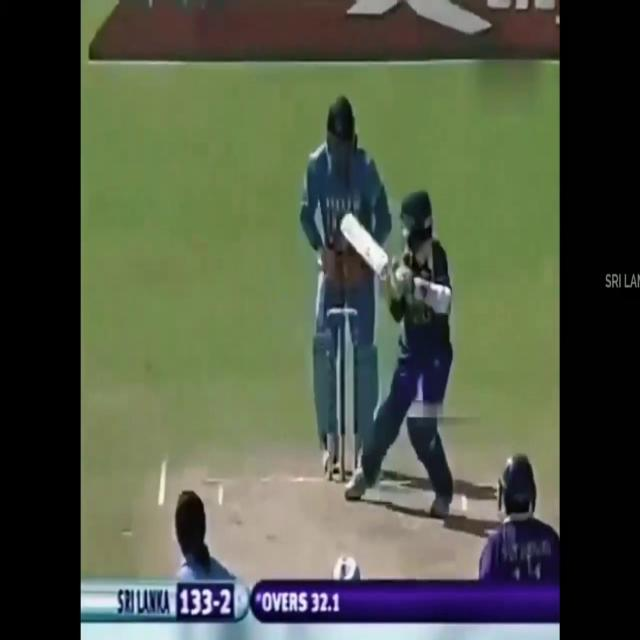Batsman: (343, 186, 472, 531)
